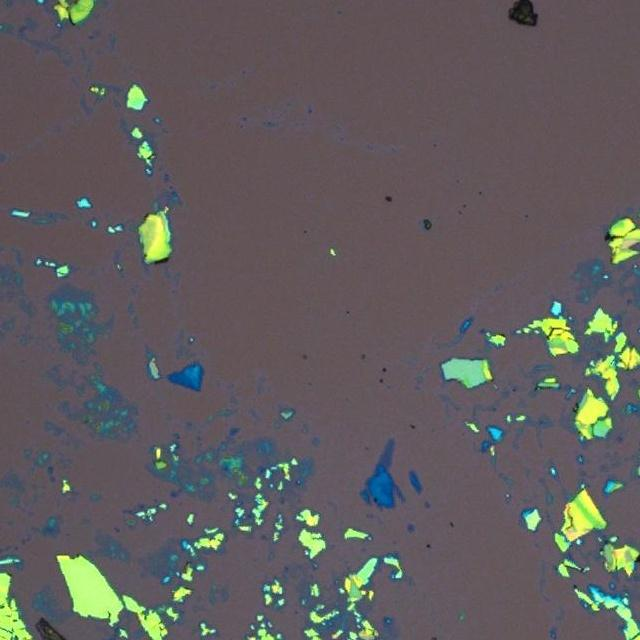monolayer-eWW4: (378, 436, 396, 472)
